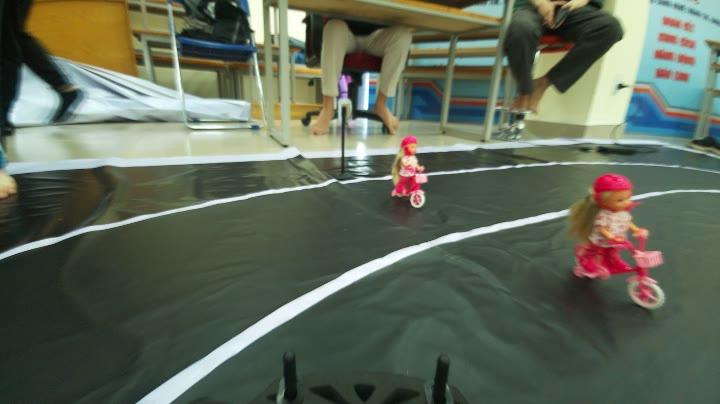pedestrian: (565, 162, 679, 312), (380, 131, 439, 210)
